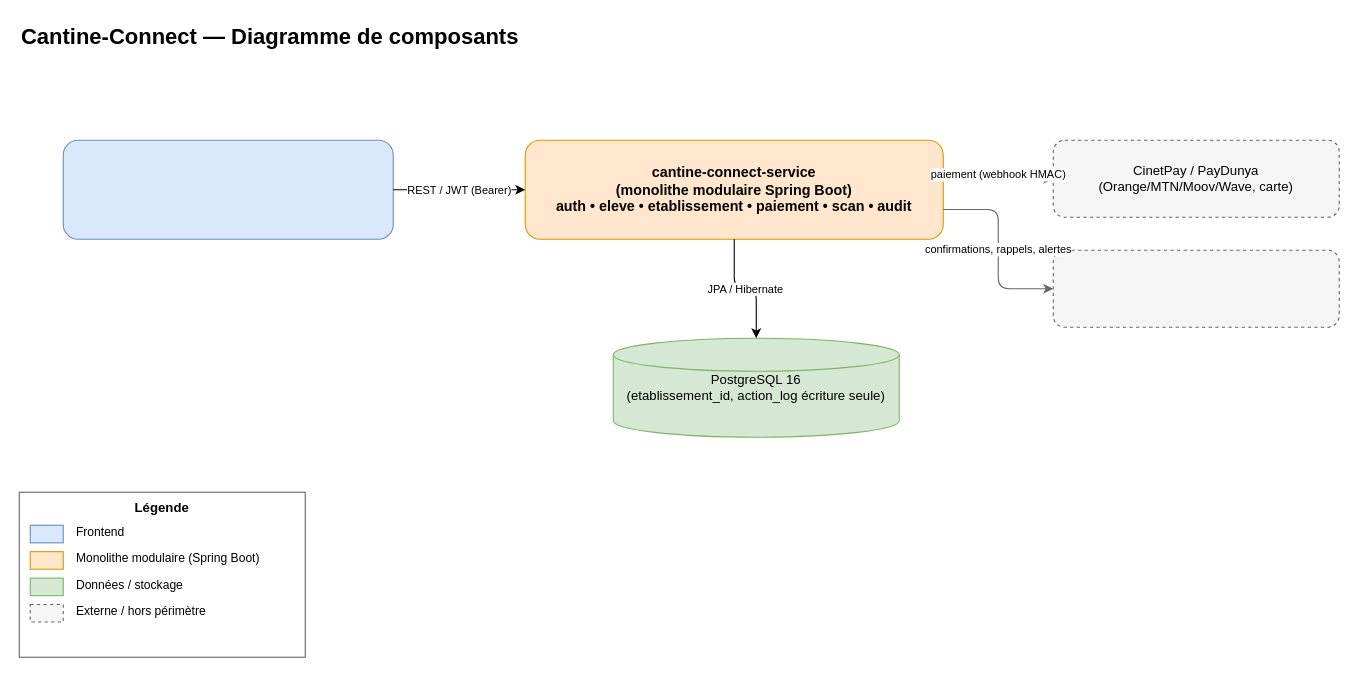
This 1359x677 diagram has some shape labels left out. The shapes that lost their labels are listed below. From the top down, each one's box as (x1, y1, x2, y2) in pixels, then its label:
(62, 139, 393, 239): React.js 18 + Vite (SPA) /admin • /parents • /scan (lazy loading par module)
(1052, 249, 1339, 327): SMS / E-mail (Spring Mail, notifications)
